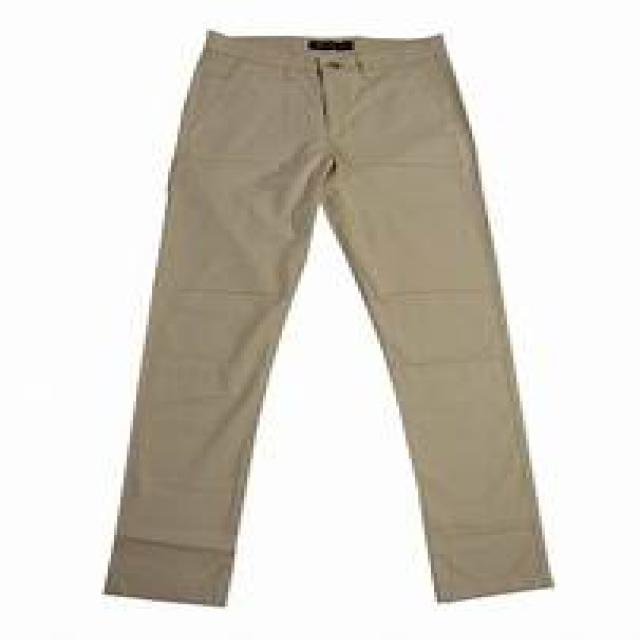long-pants: (100, 24, 564, 610)
